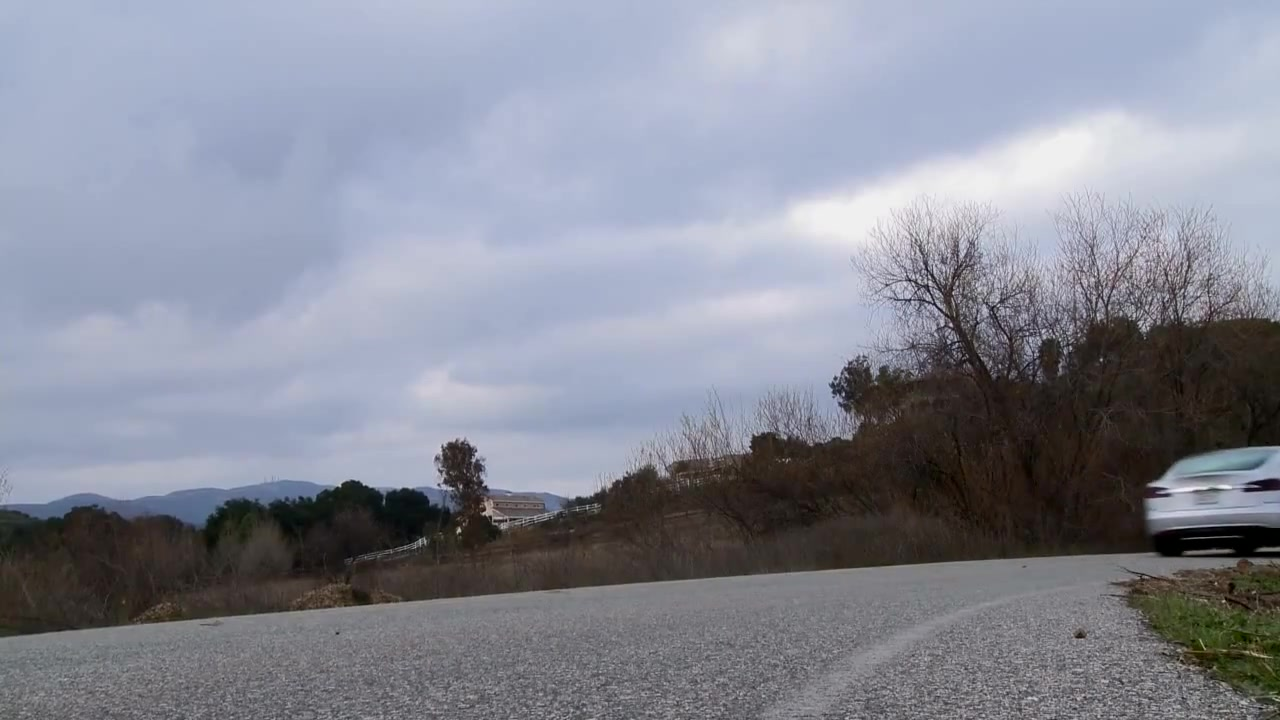car: (1138, 441, 1280, 558)
